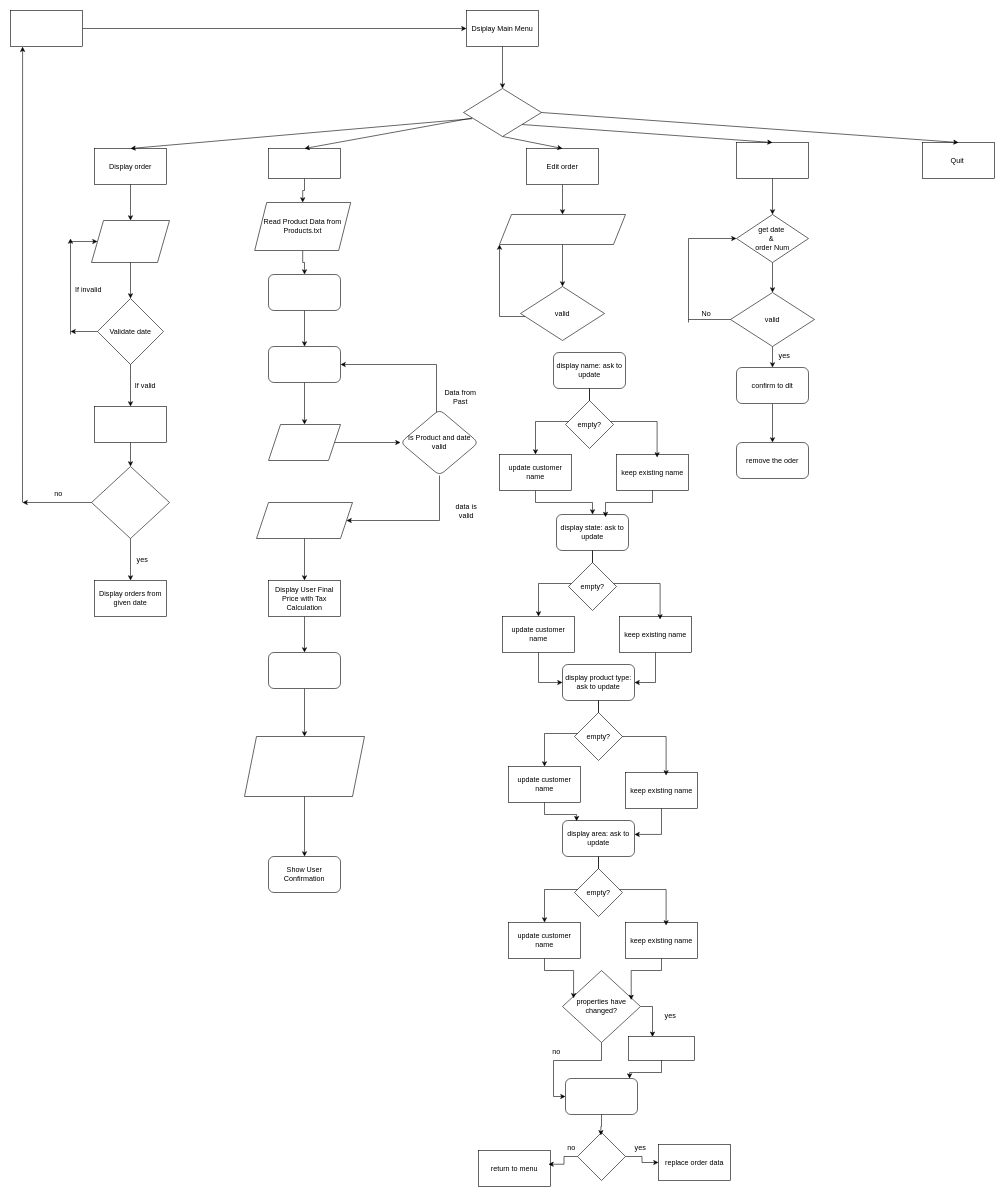
Some shapes in this 1005 by 1197 pixel diagram are drawn without their labels. The shapes that lost their labels are listed below. From the top down, each one's centre as x and y in pixels, then its label:
At point 46,28: "Display error messege".
At point 502,112: "Ask user for operation".
At point 304,163: "Add order".
At point 772,160: "Remove order".
At point 130,241: "Ask user for date".
At point 562,229: "Ask for order date and number".
At point 304,292: "Display List of Products Available".
At point 304,364: "User Select Product & choose Order Date".
At point 130,424: "Get orders from given date".
At point 304,442: "Validate Product & Order Date".
At point 130,502: "Are there any orders?".
At point 304,520: "Read Tax file for tge User State".
At point 304,670: "Confirm Product Order".
At point 304,766: "Update Orders in Orders_<dd-mm-yy>.txt".
At point 661,1048: "Recalculate totals".
At point 601,1096: "display new infomation and ask to save".
At point 601,1156: "save".
